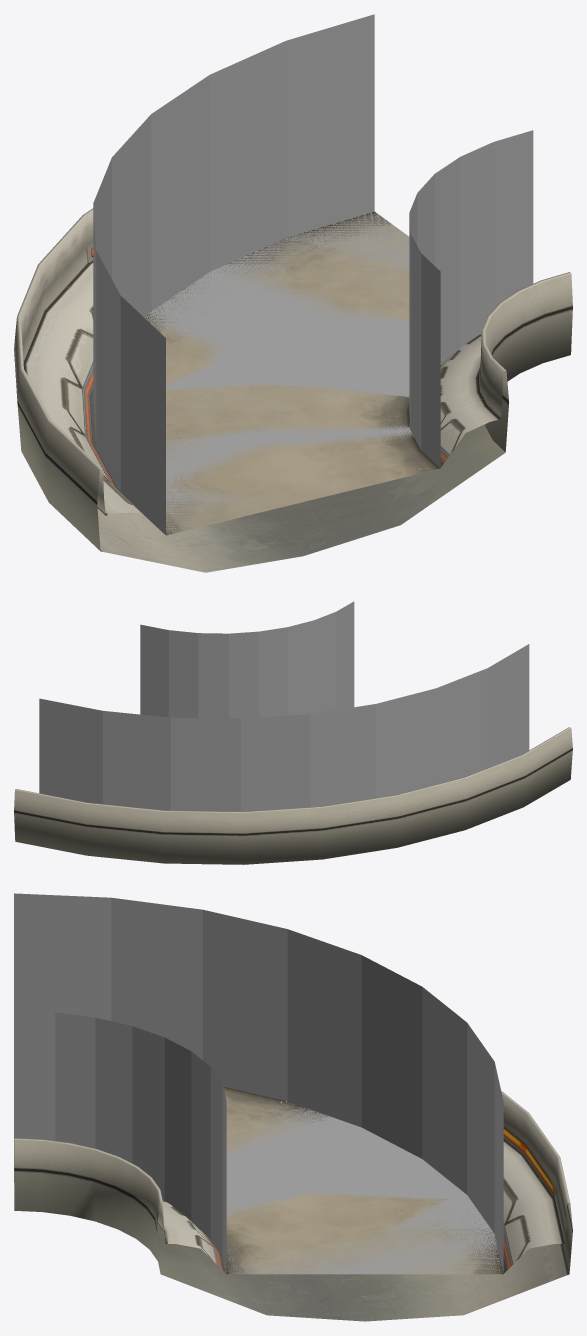
File: road_turn_short.fbx
The picture shows the model from 3 angles, top to bottom: view 1: azimuth 30°, elevation 25°; view 2: azimuth 150°, elevation 25°; view 3: azimuth 270°, elevation 25°; orthographic projection. The views are drawn at different scales.
Parts seen in each view (by area): view 1: colider_turn_short, road_turn_short; view 2: colider_turn_short, road_turn_short; view 3: colider_turn_short, road_turn_short.
Boxes of the visible parts, x1,y1,x2,y2 form: colider_turn_short: (93,14,533,535); road_turn_short: (14,208,572,572); colider_turn_short: (39,601,529,811); road_turn_short: (14,727,572,864); colider_turn_short: (14,893,503,1274); road_turn_short: (14,1087,572,1321).
Size of the model in its own units: 32.51 by 14.01 by 32.29.
4 materials, 3 textured.
